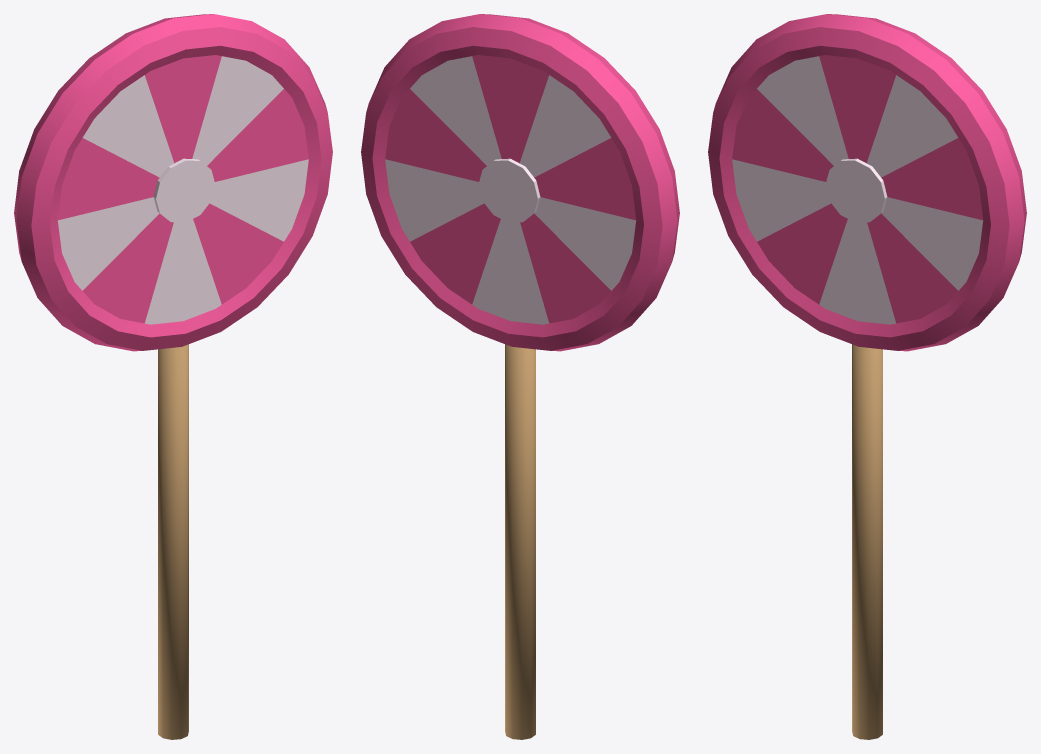
The model's file is Lollipop.fbx.
The picture shows the model from 3 angles, left to right: view 1: azimuth 30°, elevation 25°; view 2: azimuth 150°, elevation 25°; view 3: azimuth 330°, elevation 25°; orthographic projection.
Parts seen in each view (by area): view 1: Lollipop_Body, Lollipop_Frosting, Lollipop_Stick; view 2: Lollipop_Body, Lollipop_Frosting, Lollipop_Stick; view 3: Lollipop_Body, Lollipop_Frosting, Lollipop_Stick.
Boxes of the visible parts, x1,y1,x2,y2 form: Lollipop_Body: [14, 14, 332, 351]; Lollipop_Frosting: [57, 56, 308, 324]; Lollipop_Stick: [158, 344, 188, 739]; Lollipop_Body: [361, 14, 679, 351]; Lollipop_Frosting: [385, 56, 636, 324]; Lollipop_Stick: [505, 344, 535, 739]; Lollipop_Body: [708, 14, 1026, 351]; Lollipop_Frosting: [732, 56, 983, 324]; Lollipop_Stick: [852, 344, 882, 739].
Bounding box in the file's own units: 370 × 805 × 50.
